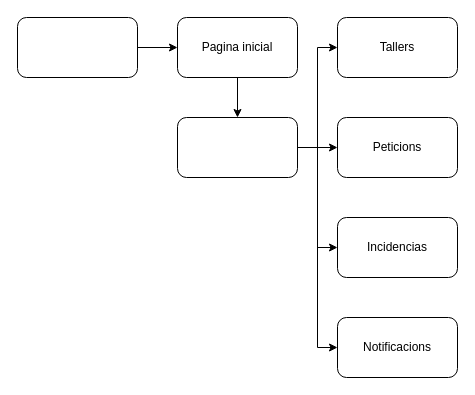
This 475x395 diagram has some shape labels left out. Each missing label, with the centre of its shape:
Log In: (77,47)
Panel de Gestió: (237,147)
